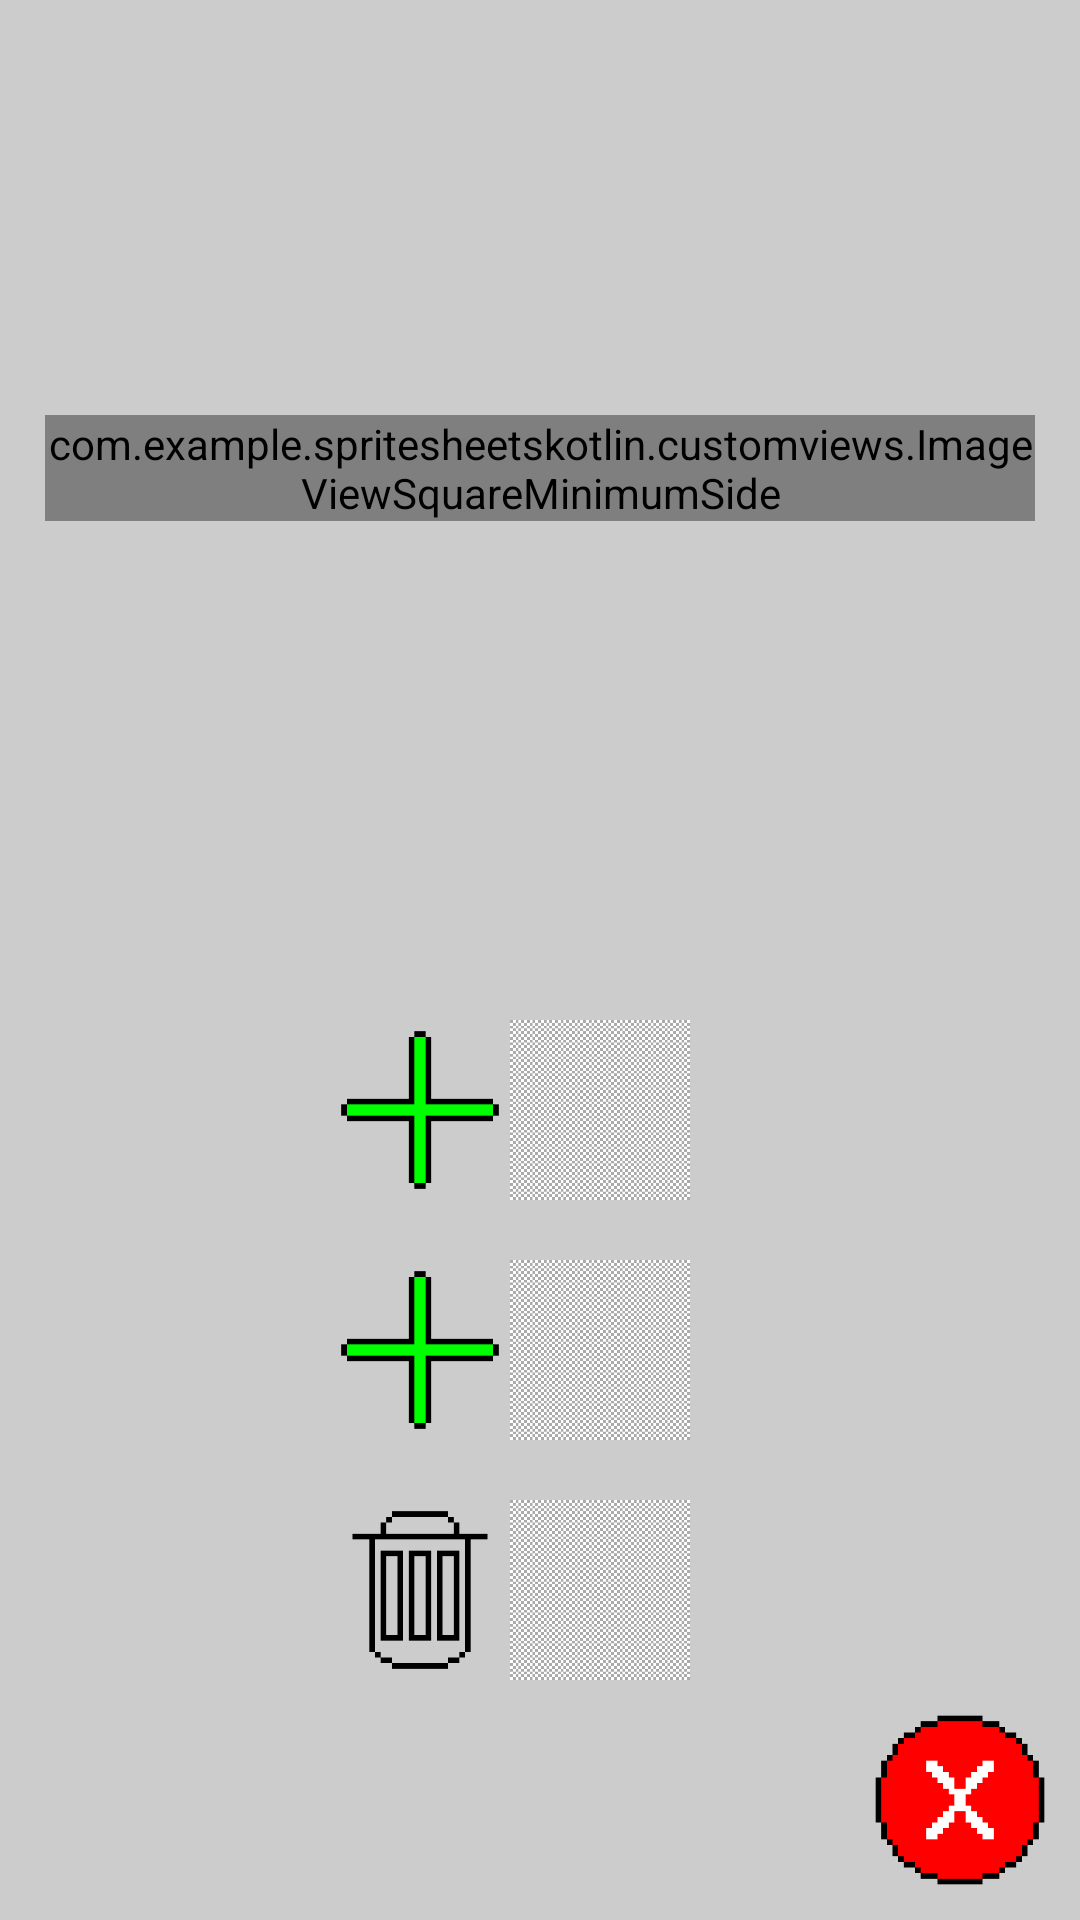

Point at icon controls on the screen. Image size 1080 × 1920, points as [x,y].
close: [960,1800]
plusgreen: [420,1110], [420,1350]
